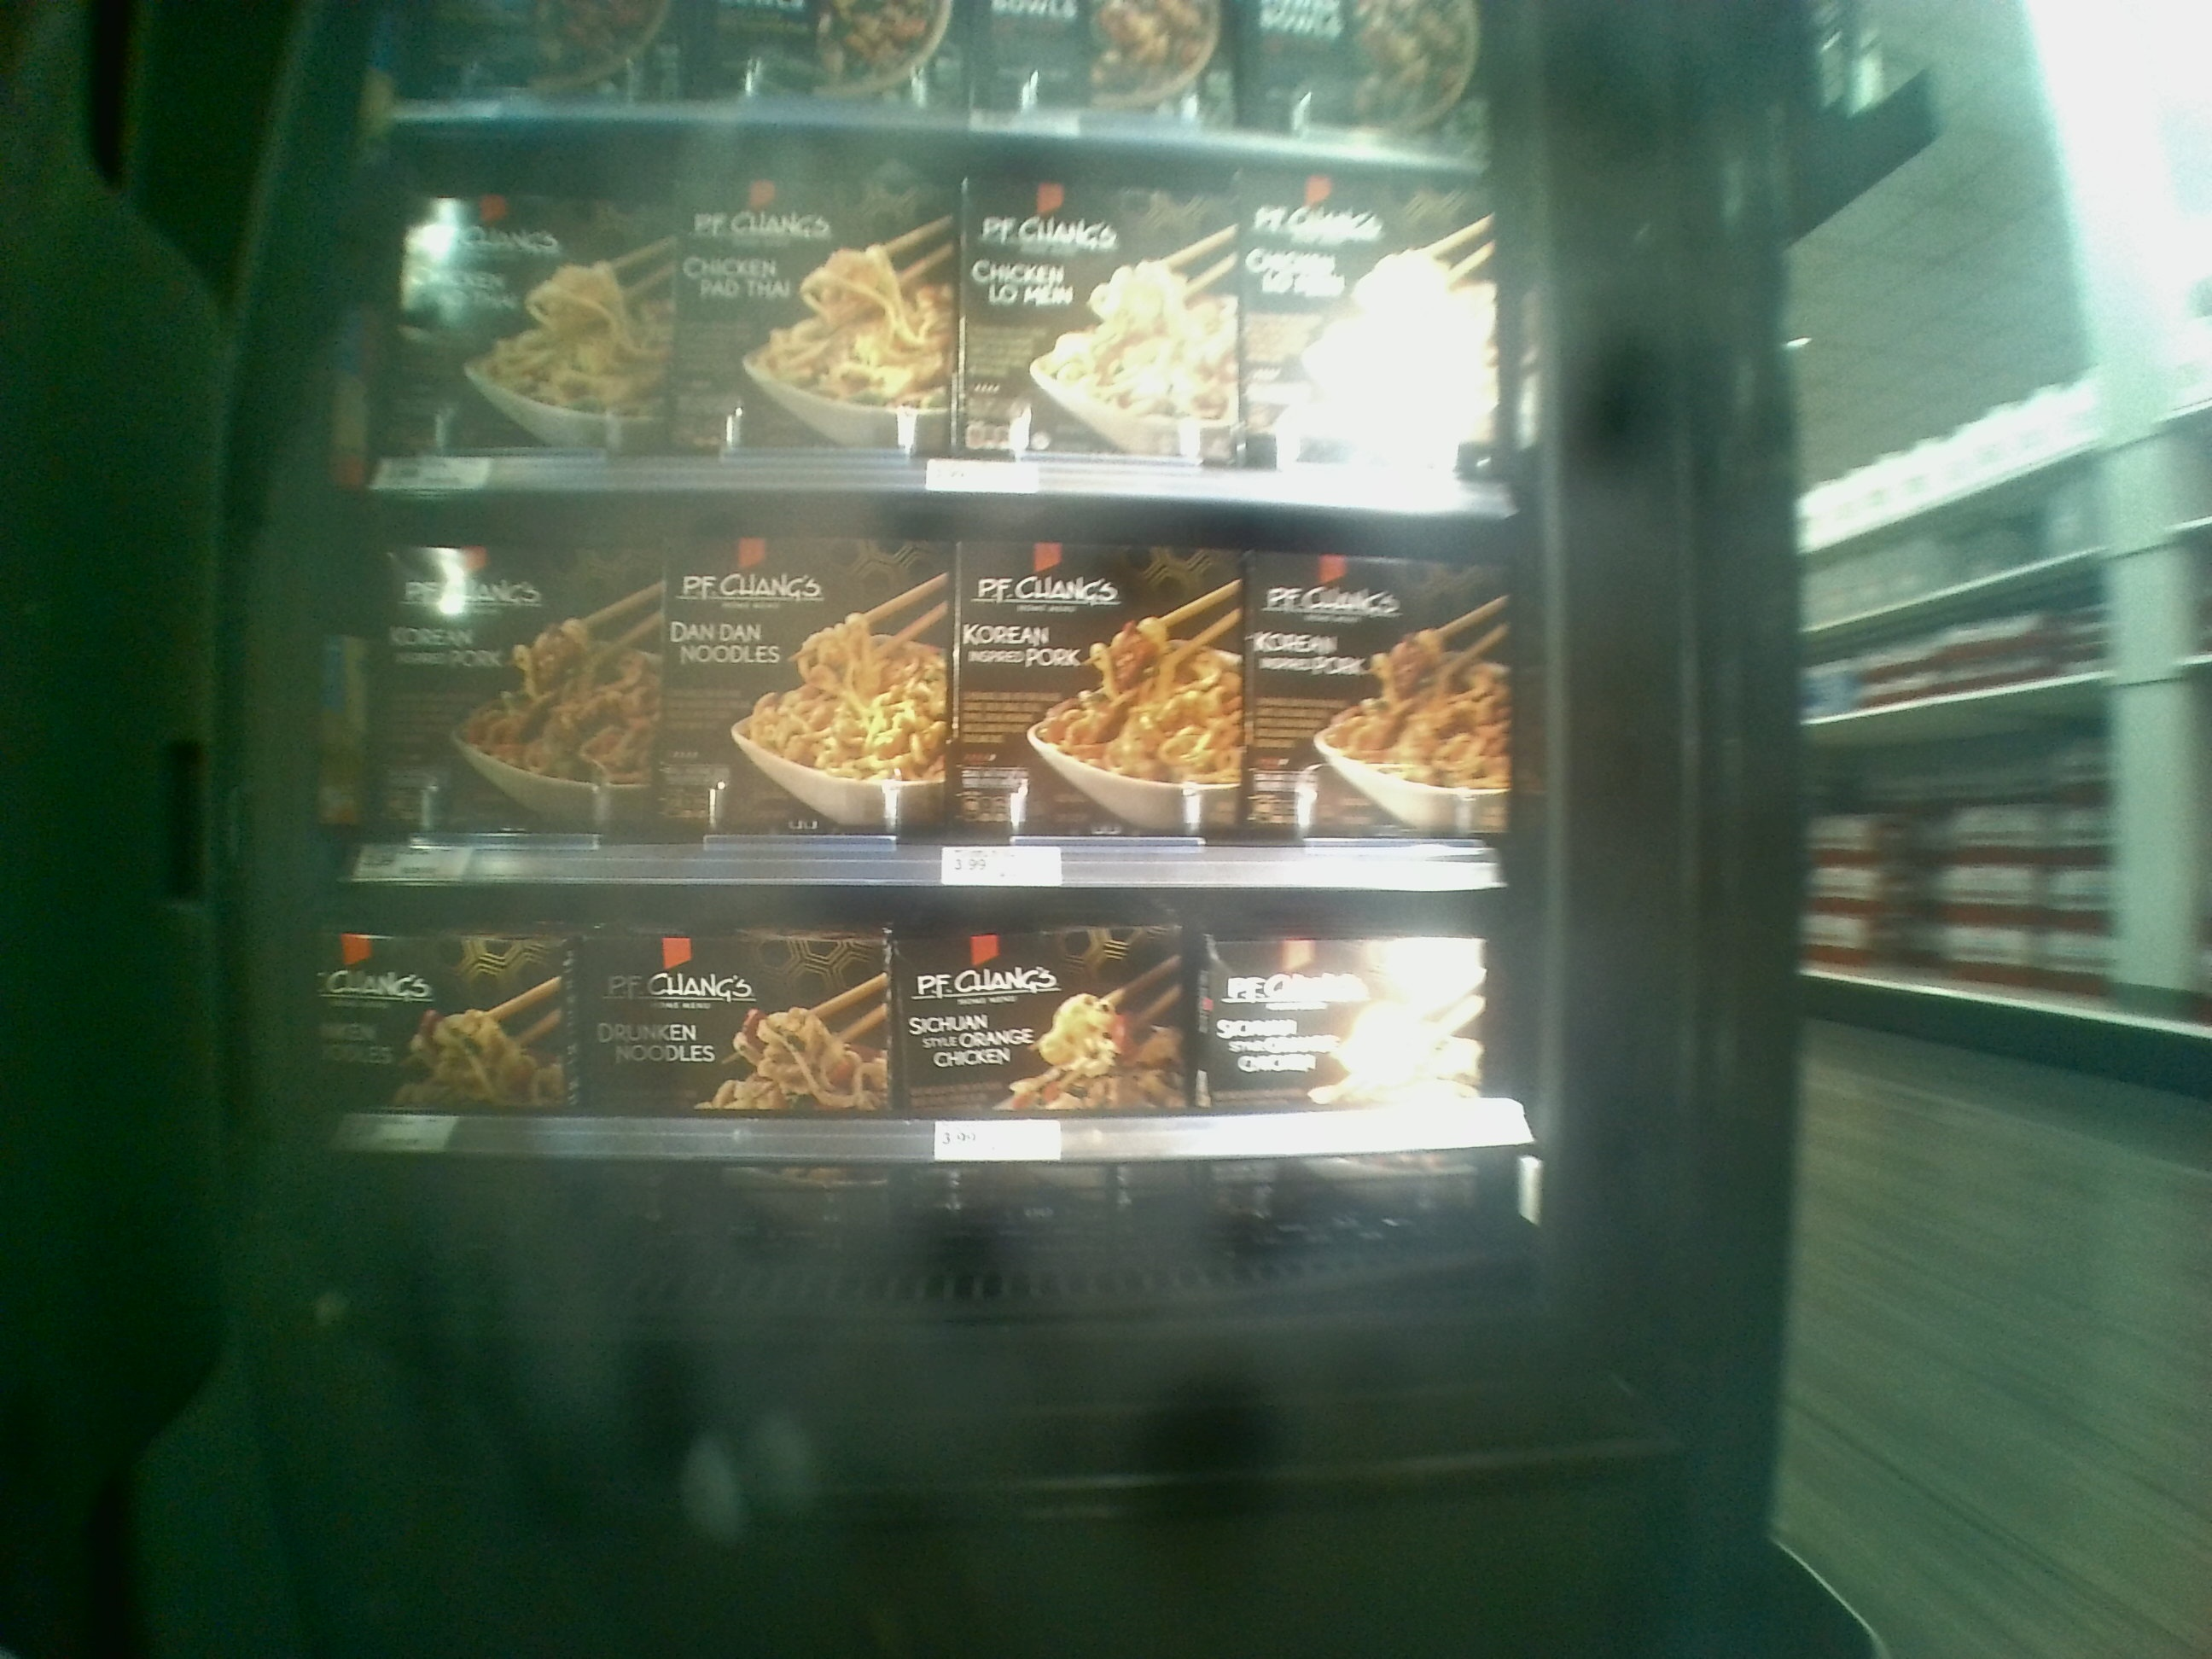shelf: (322, 849, 1545, 1305), (355, 490, 1522, 899), (355, 110, 1526, 491)
